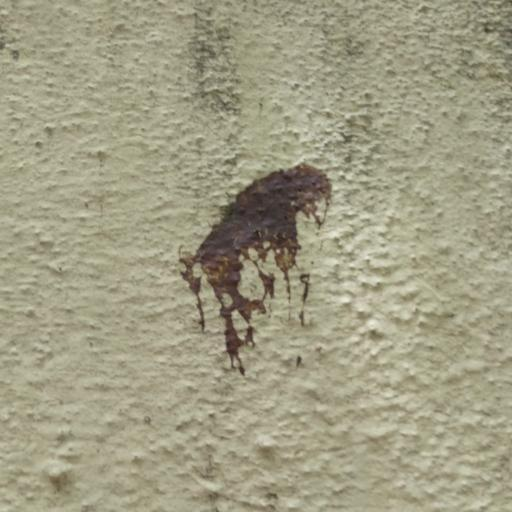stain: (174, 131, 336, 388), (329, 21, 419, 256), (138, 390, 288, 512), (169, 6, 303, 141)
